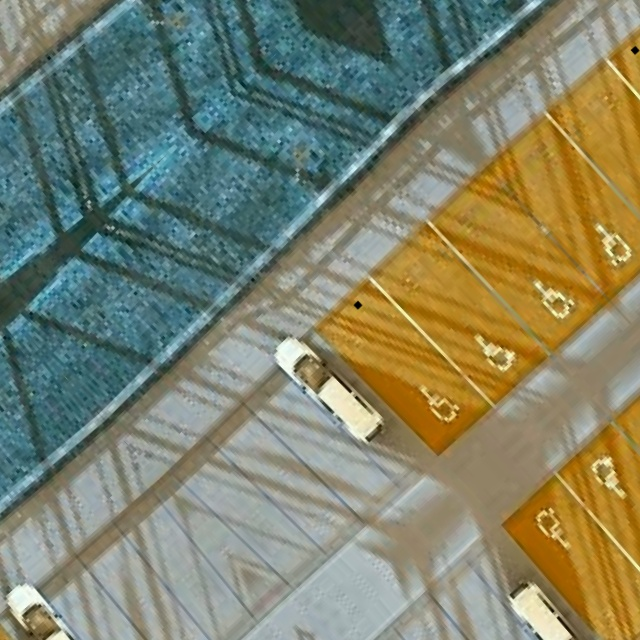ISA: (585, 453, 639, 508), (465, 322, 518, 376), (525, 269, 576, 322), (584, 215, 635, 268), (531, 506, 582, 559), (409, 374, 460, 426)
